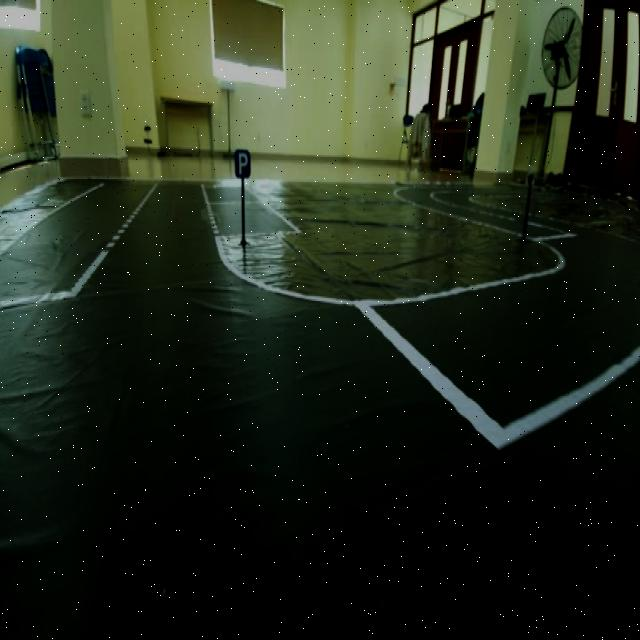parking: (227, 139, 257, 183)
